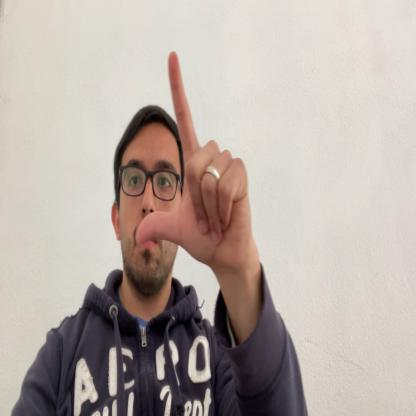L: (135, 52, 250, 271)
